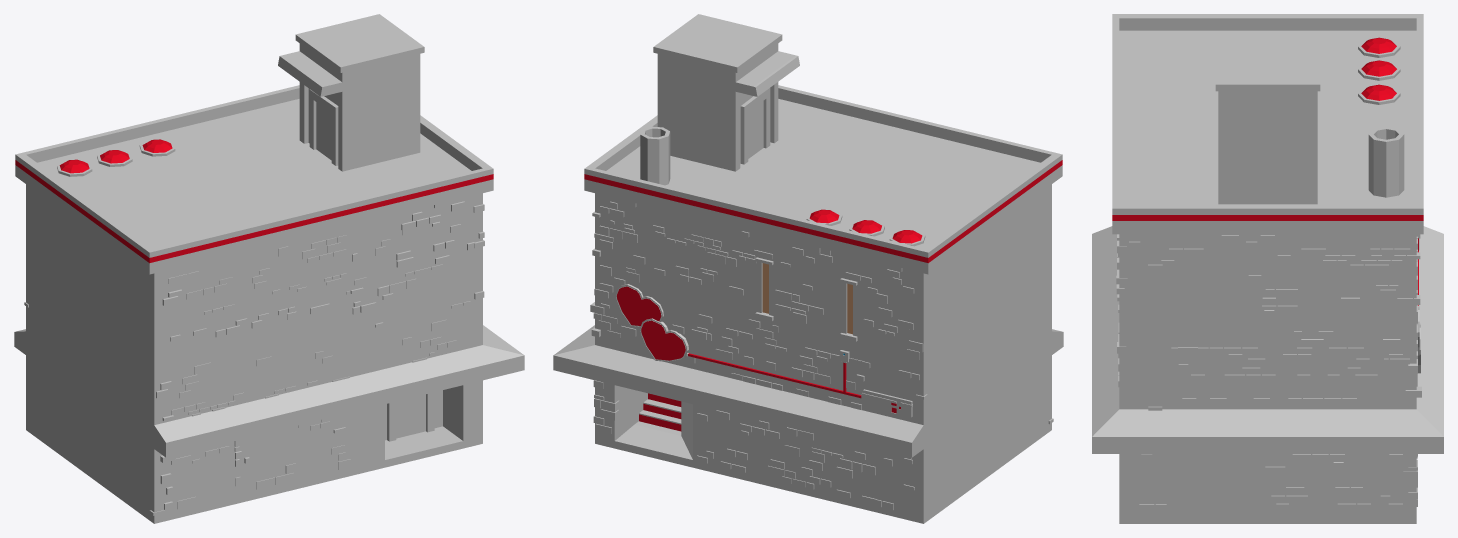
Rendered from Building_CrookedHearts.fbx.
3 views of the same model, side by side, from view 1: azimuth 30°, elevation 25°; view 2: azimuth 150°, elevation 25°; view 3: azimuth 270°, elevation 25° (orthographic). The views are drawn at different scales.
Parts seen in each view (by area): view 1: Cube.051, Wall.005; view 2: Cube.051, Wall; view 3: Cube.051, Wall.003, Wall, Wall.005.
Part boxes in pixels (x1,y1,x2,y2): Cube.051: (14, 14, 524, 523); Wall.005: (149, 201, 484, 515); Cube.051: (553, 14, 1063, 523); Wall: (590, 200, 927, 510); Cube.051: (1092, 14, 1443, 523); Wall.003: (1129, 234, 1421, 511); Wall: (1403, 234, 1417, 506); Wall.005: (1116, 234, 1127, 387).
Bounding box in the file's own units: 1024 × 990 × 734.
